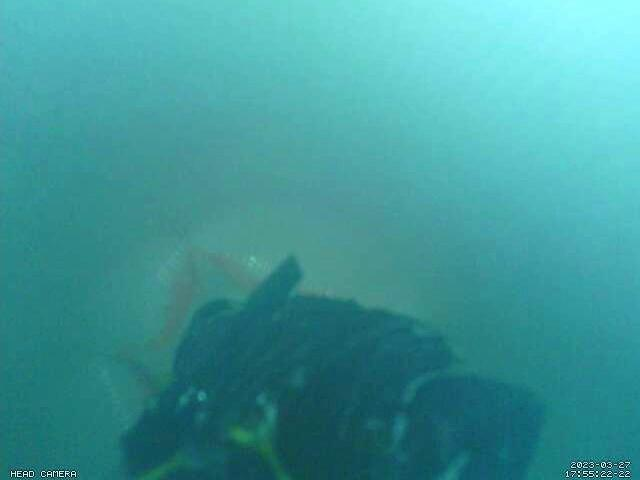head: (120, 246, 261, 389)
